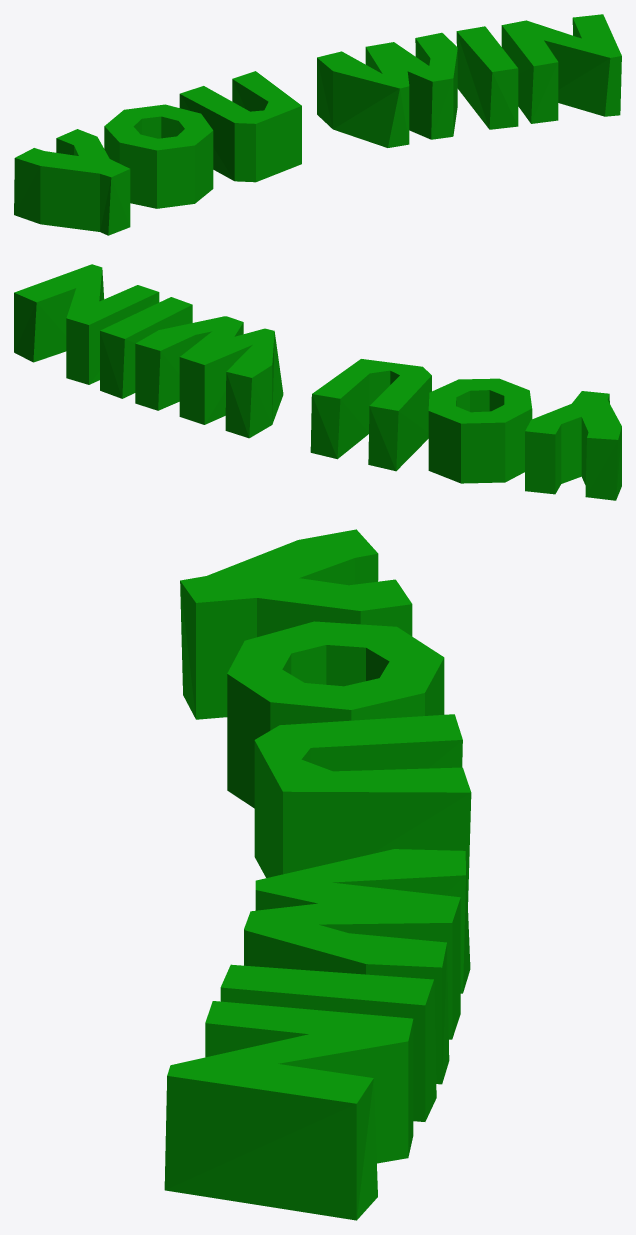
The model's file is Text_YouWin.fbx.
3 views of the same model, one above another, from view 1: azimuth 30°, elevation 25°; view 2: azimuth 150°, elevation 25°; view 3: azimuth 270°, elevation 25° (orthographic). The views are drawn at different scales.
Visible parts, largest first — view 1: Text_YouWin; view 2: Text_YouWin; view 3: Text_YouWin.
Boxes of the visible parts, <box> form: Text_YouWin: <box>14,14,621,235</box>; Text_YouWin: <box>14,264,621,500</box>; Text_YouWin: <box>164,529,471,1220</box>.
Size of the model in its own units: 396 by 37.5 by 89.27.
